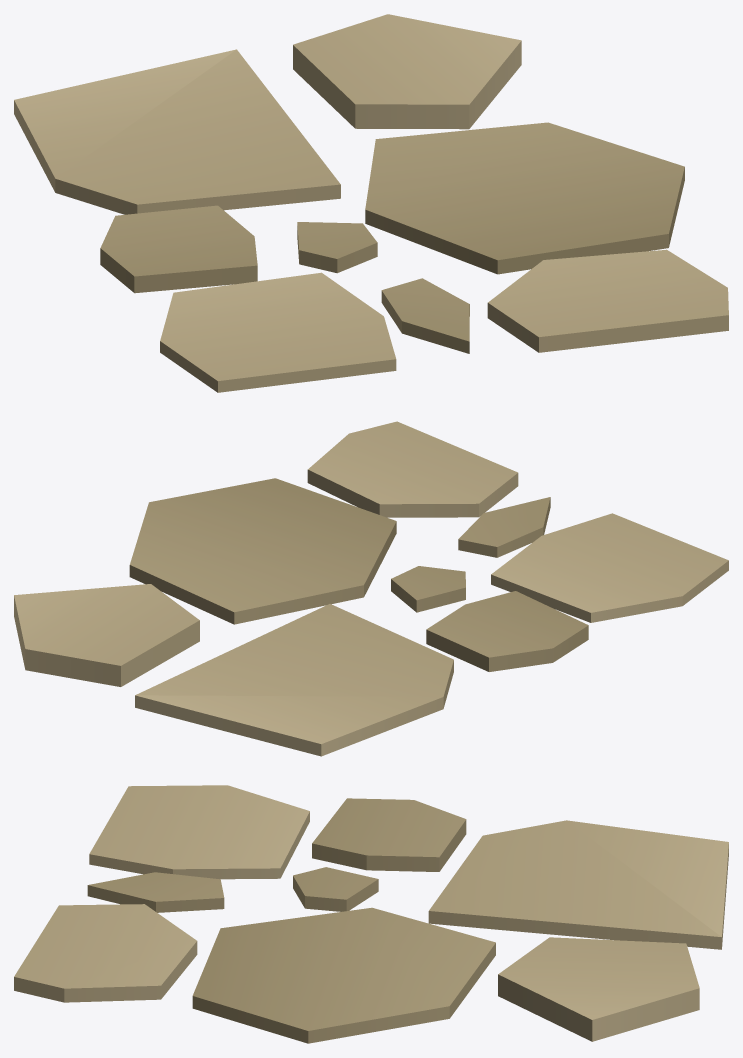
Rendered from Road_Stone_L.fbx.
3 renders of one model, top to bottom at view 1: azimuth 30°, elevation 25°; view 2: azimuth 150°, elevation 25°; view 3: azimuth 270°, elevation 25°, orthographic. The views are drawn at different scales.
Visible parts, largest first — view 1: Road_Piece_D, Road_Piece_A, Road_Piece_F, Road_Piece_B, Road_Piece_G, Road_Piece_C, Road_Piece_H, Road_Piece_E; view 2: Road_Piece_A, Road_Piece_D, Road_Piece_F, Road_Piece_B, Road_Piece_G, Road_Piece_C, Road_Piece_H, Road_Piece_E; view 3: Road_Piece_D, Road_Piece_A, Road_Piece_F, Road_Piece_B, Road_Piece_G, Road_Piece_C, Road_Piece_H, Road_Piece_E.
Part boxes in pixels (x1,y1,x2,y2): Road_Piece_D: (365,122,684,274); Road_Piece_A: (14,49,340,214); Road_Piece_F: (160,272,396,392); Road_Piece_B: (293,14,521,129); Road_Piece_G: (487,249,728,352); Road_Piece_C: (100,205,257,293); Road_Piece_H: (381,278,469,353); Road_Piece_E: (297,222,377,273); Road_Piece_A: (135,604,453,756); Road_Piece_D: (129,478,396,624); Road_Piece_F: (491,513,728,622); Road_Piece_B: (14,584,199,686); Road_Piece_G: (307,421,518,517); Road_Piece_C: (426,591,588,671); Road_Piece_H: (458,497,550,557); Road_Piece_E: (391,566,465,612); Road_Piece_D: (192,907,495,1043); Road_Piece_A: (428,820,728,949); Road_Piece_F: (89,785,309,879); Road_Piece_B: (498,937,699,1041); Road_Piece_G: (14,904,197,1002); Road_Piece_C: (312,798,466,871); Road_Piece_H: (87,872,224,912); Road_Piece_E: (293,867,378,911).
Bounding box in the file's own units: 3.12 × 0.1293 × 3.8.
1 material, 1 textured.
